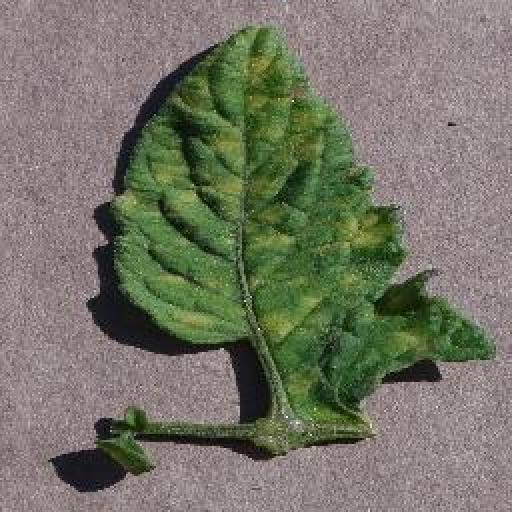disease_tomato: (108, 23, 499, 424)
